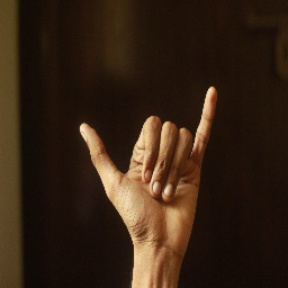J: (77, 58, 225, 249)
